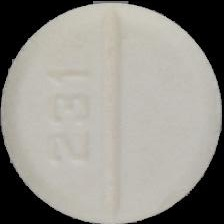0615-3532: (0, 0, 224, 224)
